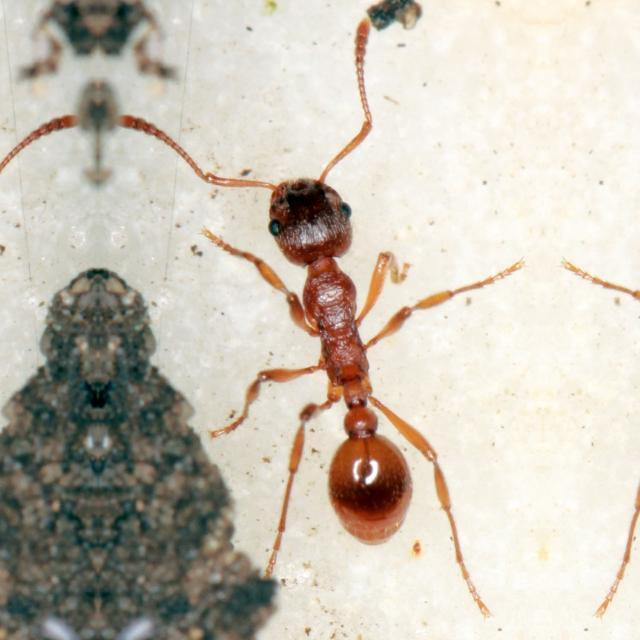Myrmica: (195, 126, 503, 600)
